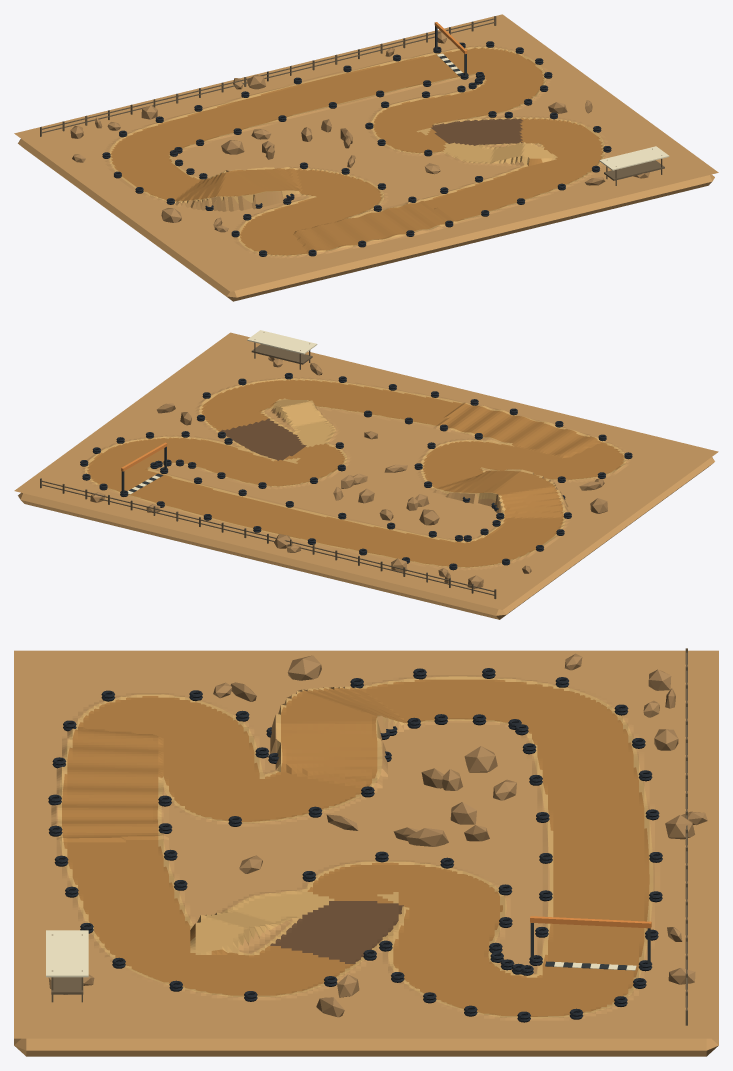
Rendered from course.glb.
3 renders of one model, top to bottom at view 1: azimuth 30°, elevation 25°; view 2: azimuth 150°, elevation 25°; view 3: azimuth 270°, elevation 25°, orthographic. The views are drawn at different scales.
Visible parts, largest first — view 1: Optimized course; view 2: Optimized course; view 3: Optimized course.
Boxes of the visible parts, bbox=[...] form: Optimized course: bbox=[14, 14, 718, 301]; Optimized course: bbox=[14, 330, 718, 619]; Optimized course: bbox=[14, 648, 718, 1056].
Size of the model in its own units: 86 by 7.2 by 66.
